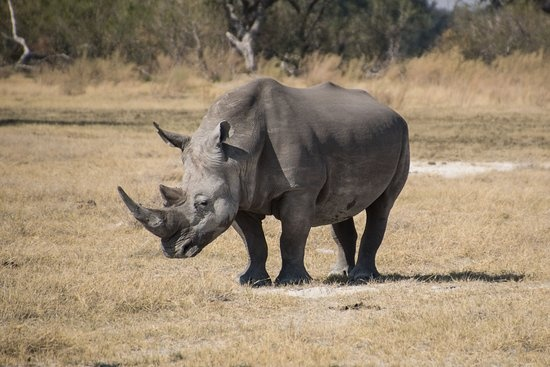rhino: (264, 181, 550, 367)
